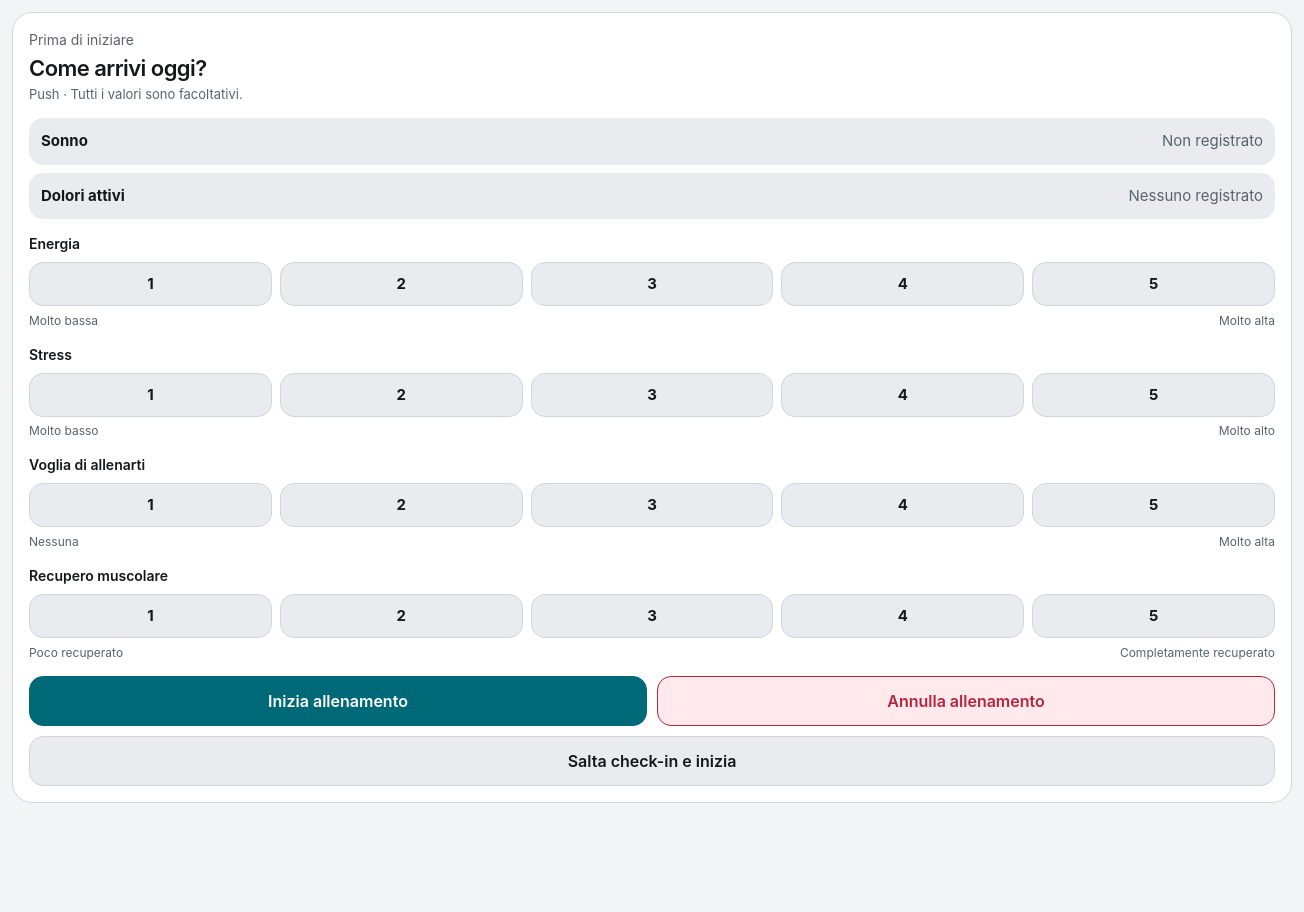
Test case: pre-session readiness contract › scrolls to the top after confirming the pre-session check-in
Click the button named "Energia: 4 su 5".
click(903, 284)  # box top-left (781, 262), bottom-right (1024, 306)
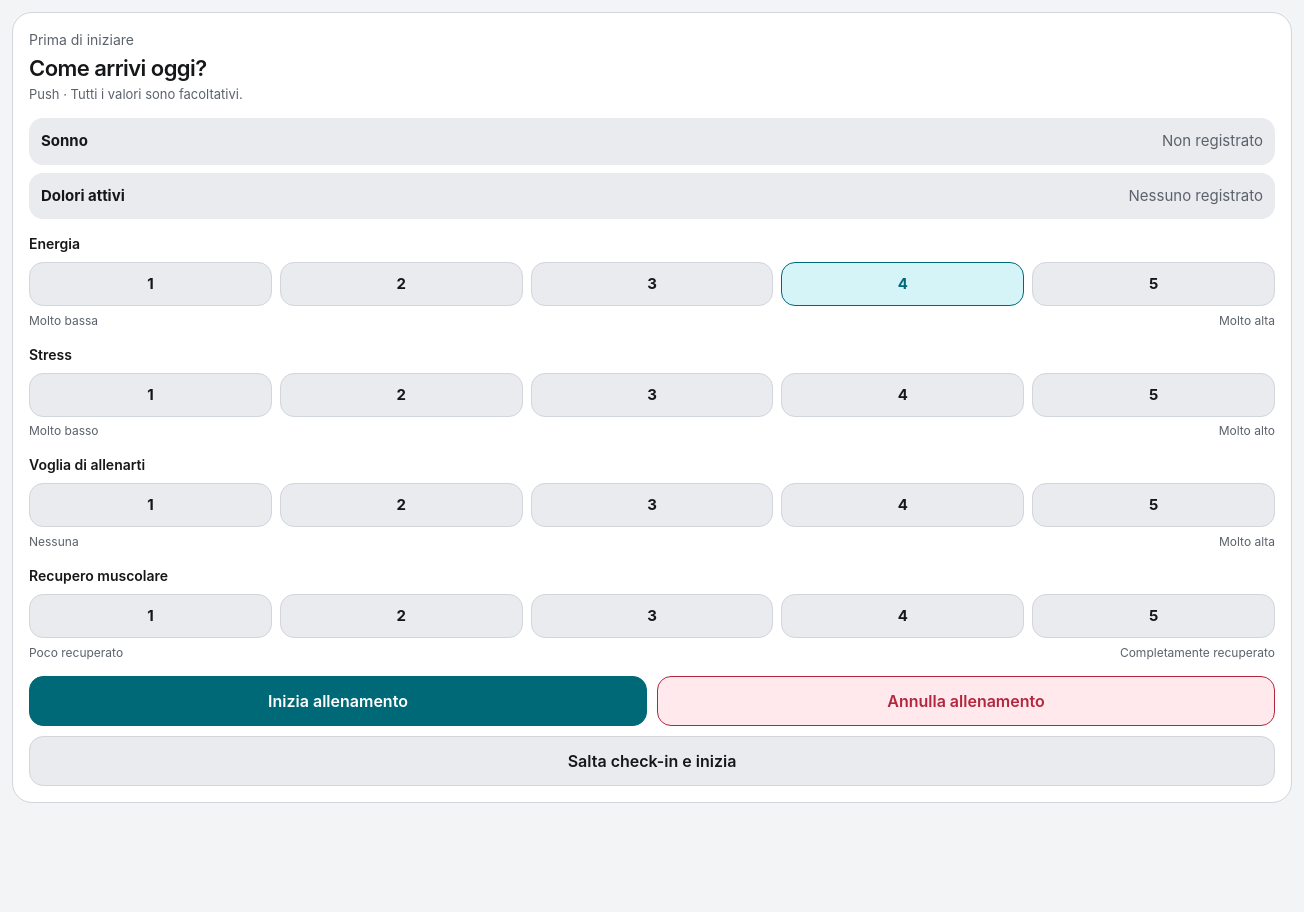
Click the button "Inizia allenamento".
click(338, 701)  # box top-left (29, 676), bottom-right (647, 726)
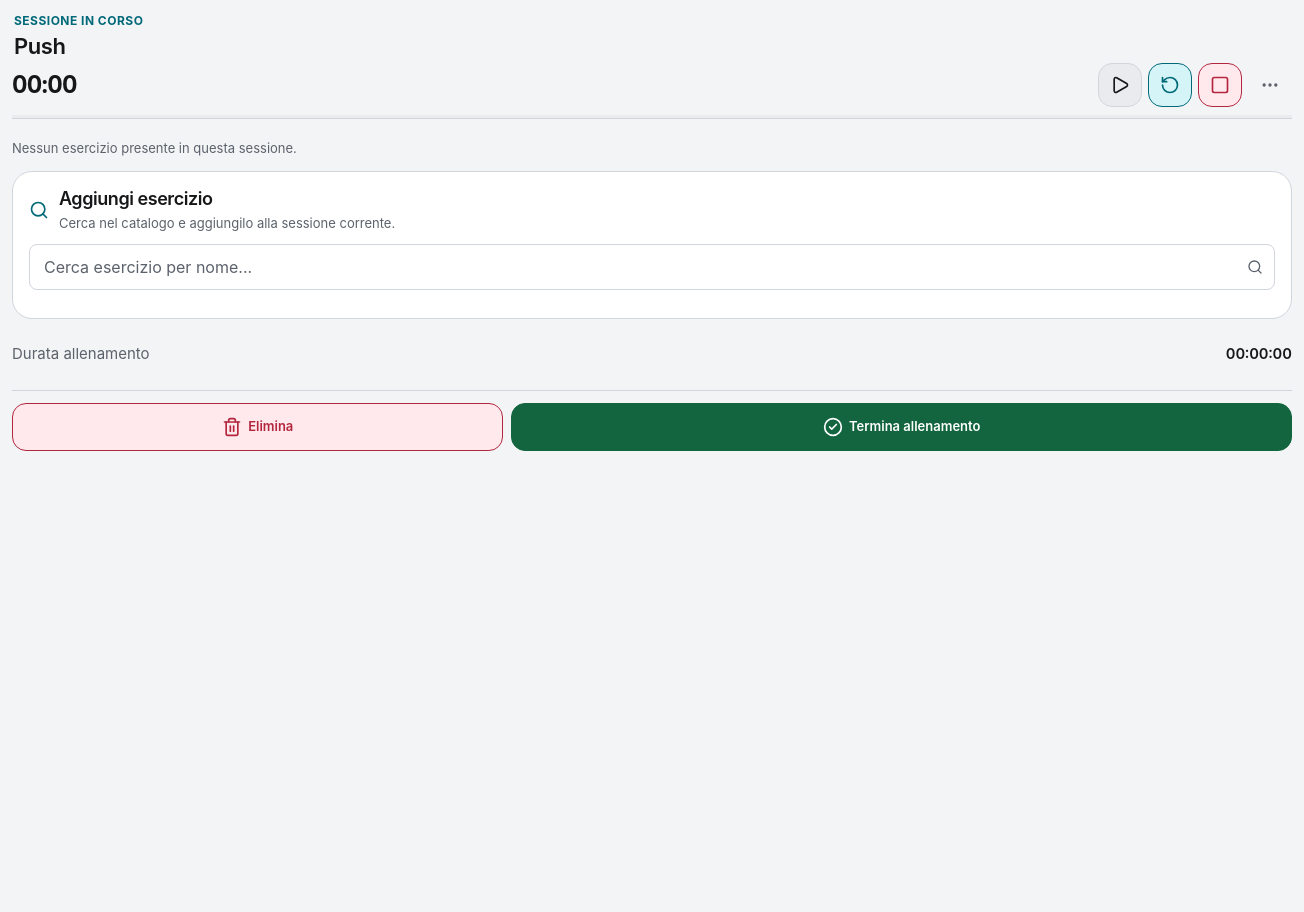
Check: the button "Termina allenamento" is shown, box top-left (512, 403), bottom-right (1292, 451)
